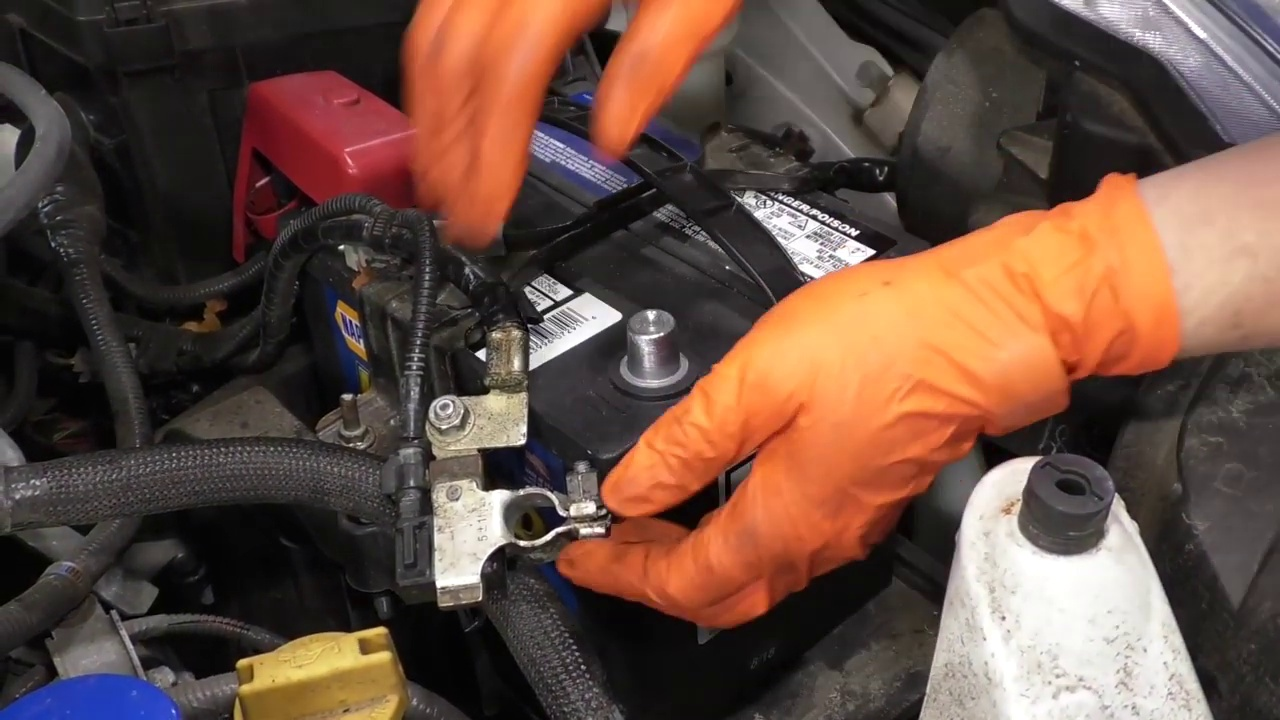battery: (288, 53, 954, 459)
neg_disconnected: (573, 285, 741, 434)
neg_touched: (576, 293, 777, 551)
pos_touched: (234, 38, 556, 268)
